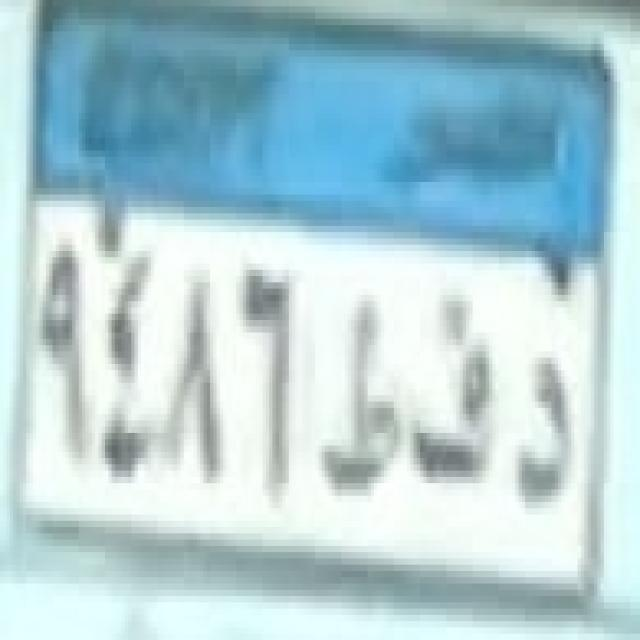4: (94, 243, 170, 491)
6: (234, 258, 300, 500)
8: (158, 268, 237, 493)
9: (32, 232, 98, 474)
F: (412, 277, 507, 497)
Taa: (322, 294, 408, 500)
daal: (514, 346, 580, 512)
